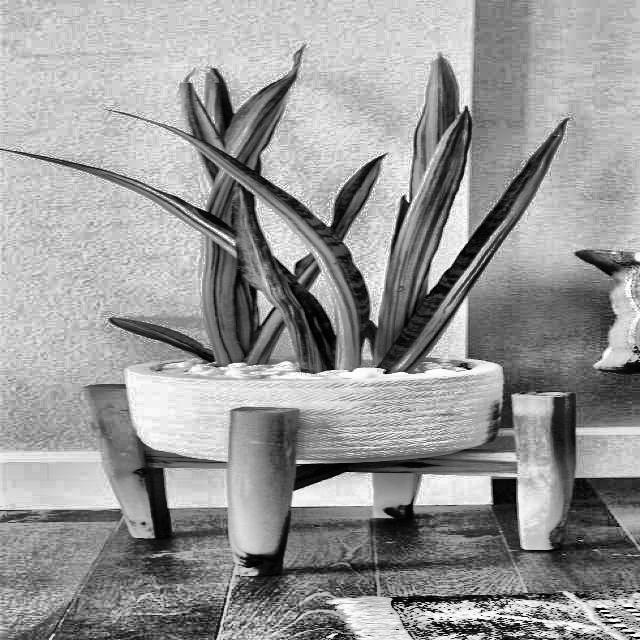plants: (8, 46, 586, 462)
